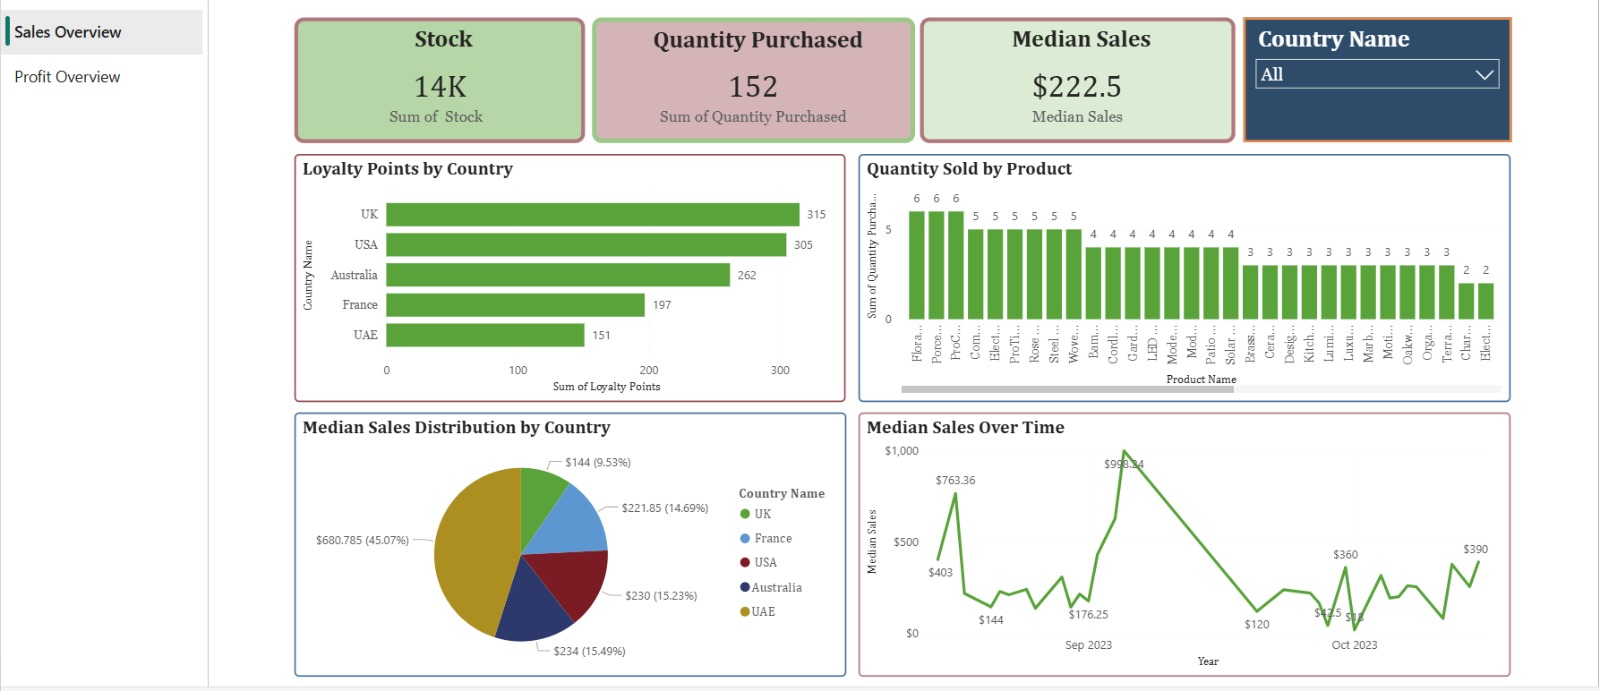

This screenshot's page, from the dashboard's own definition file:
{"tool":"powerbi","page":{"name":"Sales Overview","canvas":[1280,720],"ordinal":0},"visuals":[{"type":"clusteredBarChart","title":"Loyalty Points by Country","fields":{"Y":["Sum(Sales in USD. Loyalty Points)"],"Category":["Sales in USD.Country Name"]},"box":[8.5,167.1,572,257.3],"z":0},{"type":"clusteredColumnChart","title":"Quantity Sold by Product","fields":{"Category":["Sales in USD.Product Name"],"Y":["Sum(Sales in USD.Quantity Purchased)"]},"box":[593.9,167.1,676.8,257.3],"z":1000},{"type":"pieChart","title":"Median Sales Distribution by Country","fields":{"Category":["Sales in USD.Country Name"],"Y":["Sales in USD.Median Sales"]},"box":[7.8,435.1,572.7,274],"z":2000},{"type":"lineChart","title":"Median Sales Over Time","fields":{"Y":["Sales in USD.Median Sales"],"Category":["CalendarTable.Date.Variation.Date Hierarchy.Year","CalendarTable.Date.Variation.Date Hierarchy.Quarter","CalendarTable.Date.Variation.Date Hierarchy.Month","CalendarTable.Date.Variation.Date Hierarchy.Day"]},"box":[593.5,435.1,676.6,274],"z":3000},{"type":"card","title":"Stock","fields":{"Values":["Sum(Sales in USD. Stock  )"]},"box":[8.3,25,301.7,130],"z":4000},{"type":"card","title":"Quantity Purchased","fields":{"Values":["Sum(Sales in USD.Quantity Purchased)"]},"box":[316.7,25,335,130],"z":5000},{"type":"card","title":"Median Sales","fields":{"Values":["Sales in USD.Median Sales"]},"box":[657.5,25,326.9,130],"z":6000},{"type":"slicer","fields":{"Values":["Sales in USD.Country Name"]},"box":[992.7,25.6,278,129.3],"z":7000}]}

Visuals, with their boxes on the page's 1280x720 design canvas (x1, y1, x2, y2). These are canvas units, not pixel positions in the 1600x691 screenshot, which may show the page scaled, cropped or inside an application window:
"Loyalty Points by Country" clusteredBarChart: pyautogui.locateOnScreen(8, 167, 580, 424)
"Quantity Sold by Product" clusteredColumnChart: pyautogui.locateOnScreen(594, 167, 1271, 424)
"Median Sales Distribution by Country" pieChart: pyautogui.locateOnScreen(8, 435, 580, 709)
"Median Sales Over Time" lineChart: pyautogui.locateOnScreen(594, 435, 1270, 709)
"Stock" card: pyautogui.locateOnScreen(8, 25, 310, 155)
"Quantity Purchased" card: pyautogui.locateOnScreen(317, 25, 652, 155)
"Median Sales" card: pyautogui.locateOnScreen(658, 25, 984, 155)
slicer - Sales in USD.Country Name: pyautogui.locateOnScreen(993, 26, 1271, 155)
